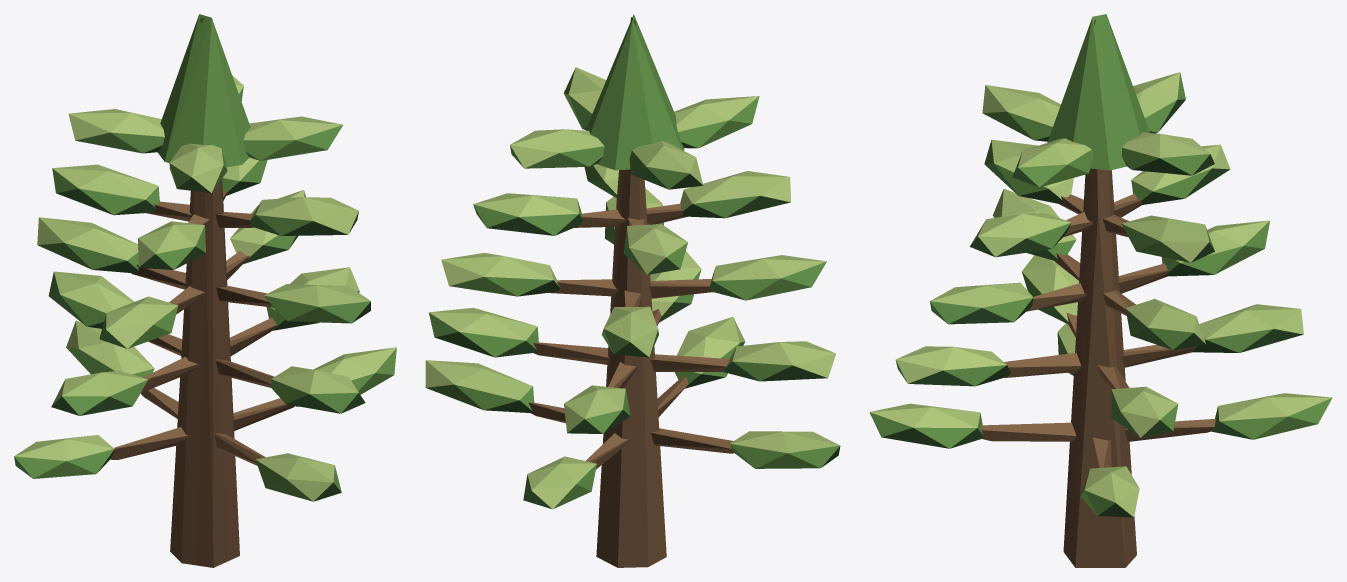
3 views of the same model, side by side, from view 1: azimuth 30°, elevation 25°; view 2: azimuth 150°, elevation 25°; view 3: azimuth 270°, elevation 25° (orthographic).
Parts seen in each view (by area): view 1: WK_Tree_Fir_AlpineLime_LOD1_Balanced; view 2: WK_Tree_Fir_AlpineLime_LOD1_Balanced; view 3: WK_Tree_Fir_AlpineLime_LOD1_Balanced.
Boxes of the visible parts, left/top/right/bottom form: WK_Tree_Fir_AlpineLime_LOD1_Balanced: left=14, top=14, right=396, bottom=567; WK_Tree_Fir_AlpineLime_LOD1_Balanced: left=425, top=14, right=840, bottom=567; WK_Tree_Fir_AlpineLime_LOD1_Balanced: left=869, top=14, right=1332, bottom=567.
Bounding box in the file's own units: 5.27 × 6.78 × 5.26.
